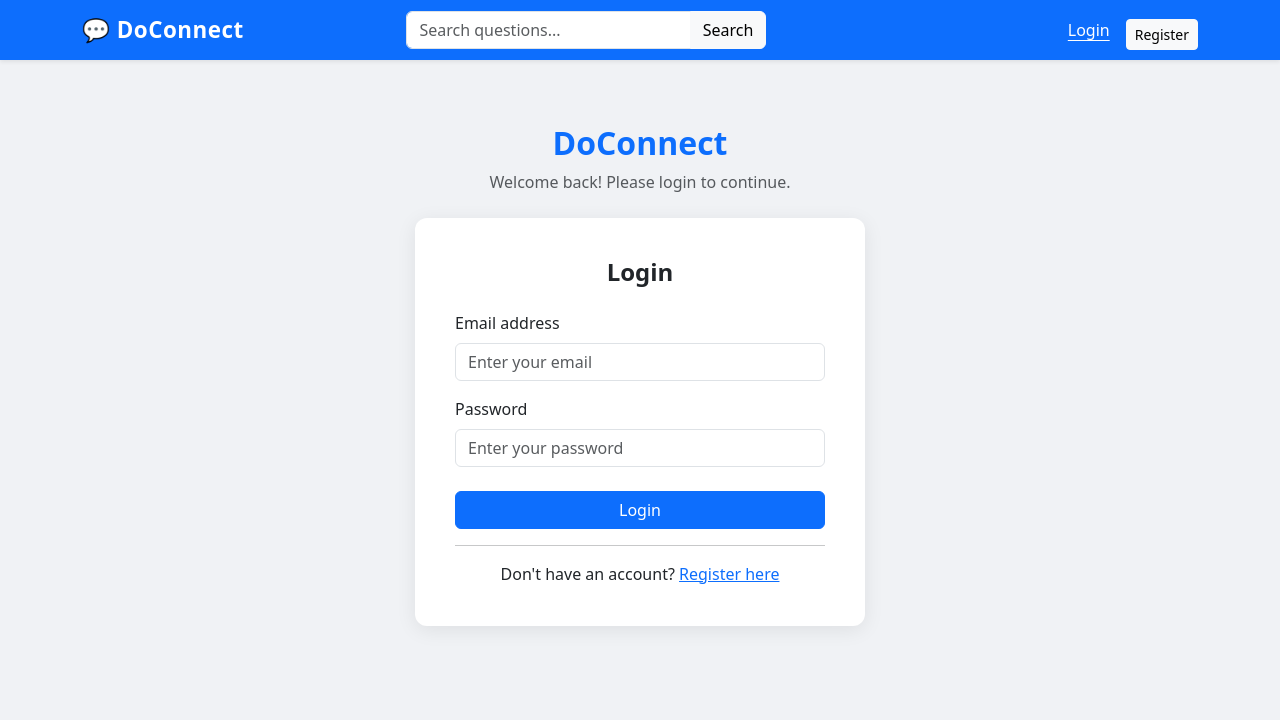
Test: DoConnect E2E Tests › Login Page › shows error when fields are empty
Click the button "Login" at (640, 510), box left=455, top=491, right=825, bottom=529
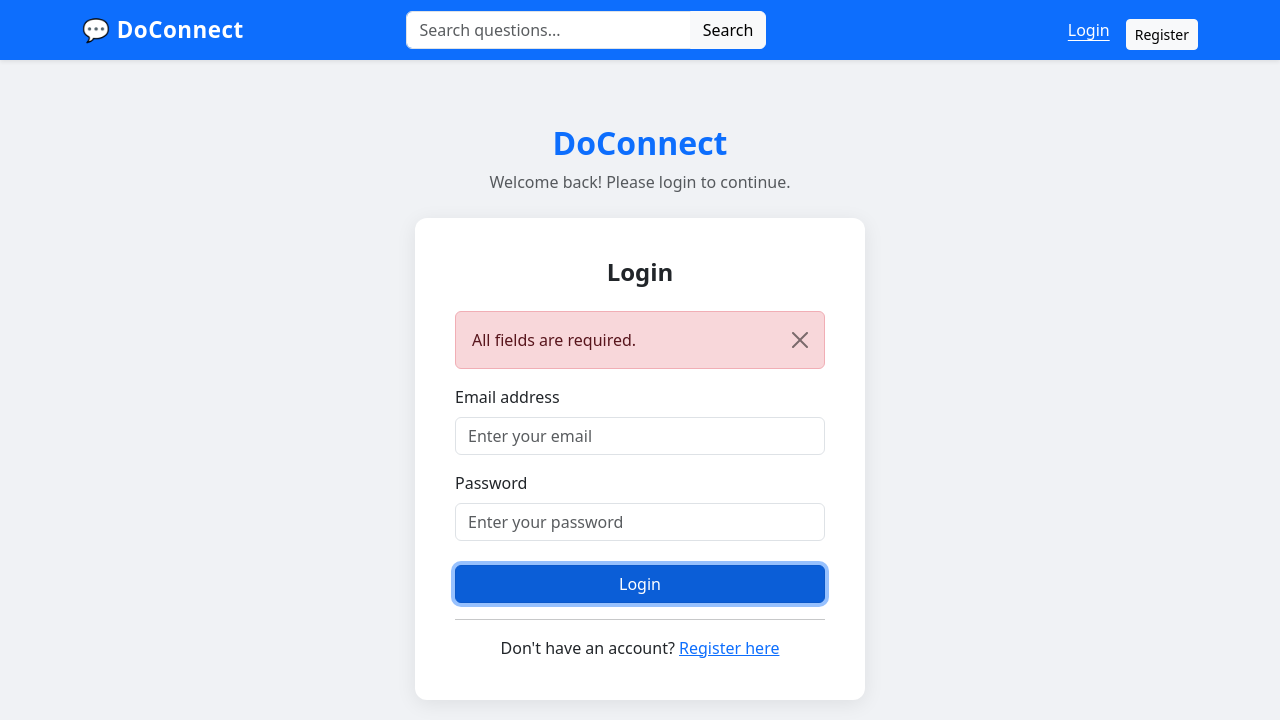
Result: the text "All fields are required." is shown at left=455, top=311, right=825, bottom=369
